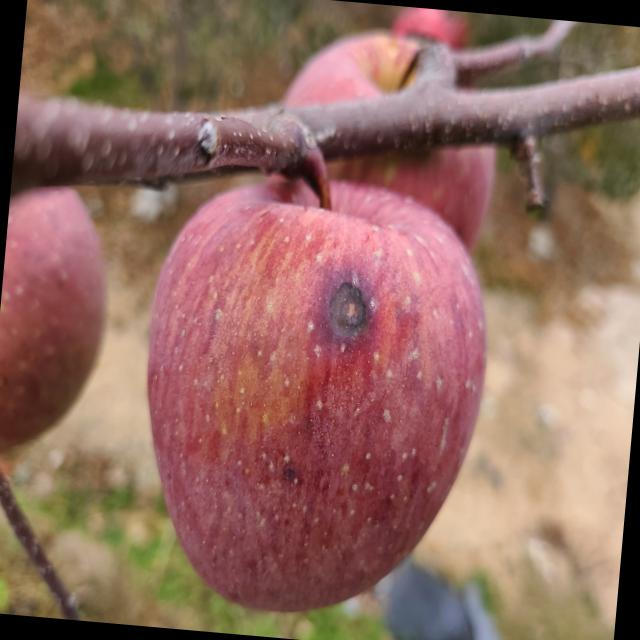rotten: (121, 159, 510, 636)
